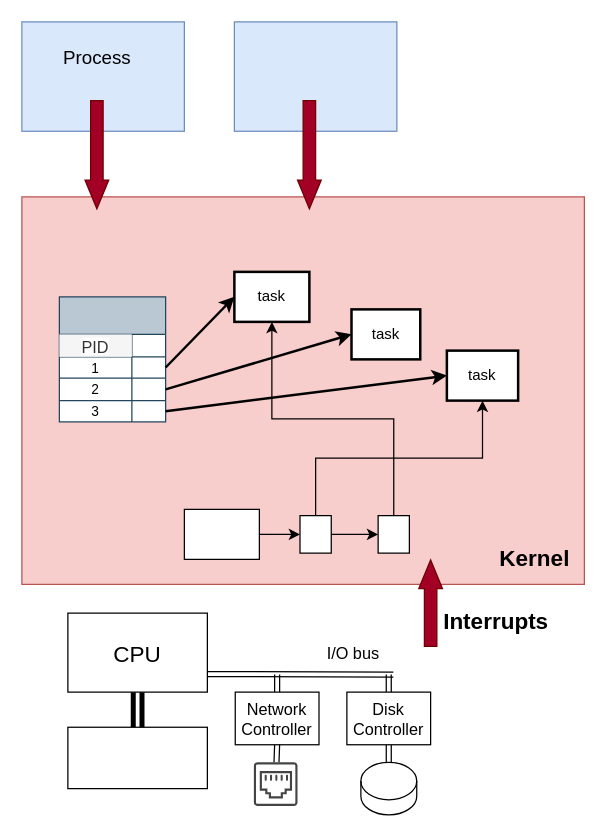
This 606x838 diagram has some shape labels left out. The centre of each missing label's shape, as x and y in pixels:
"Memory" belongs at point 137,757.
"Run queue" belongs at point 221,533.
